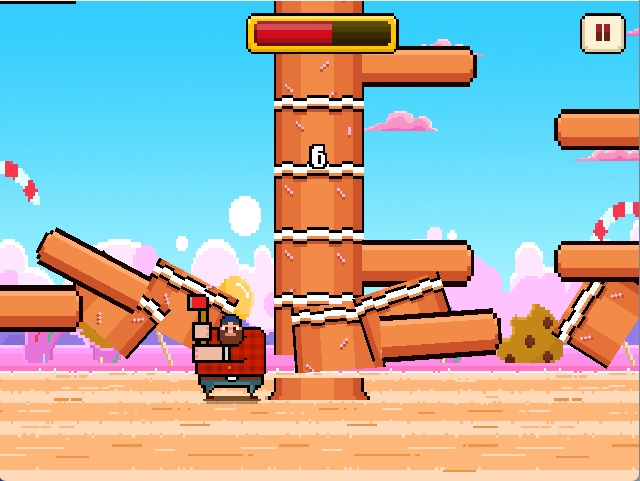right_obs: (357, 230, 478, 296), (356, 41, 483, 98)
timberman: (181, 289, 276, 420)
